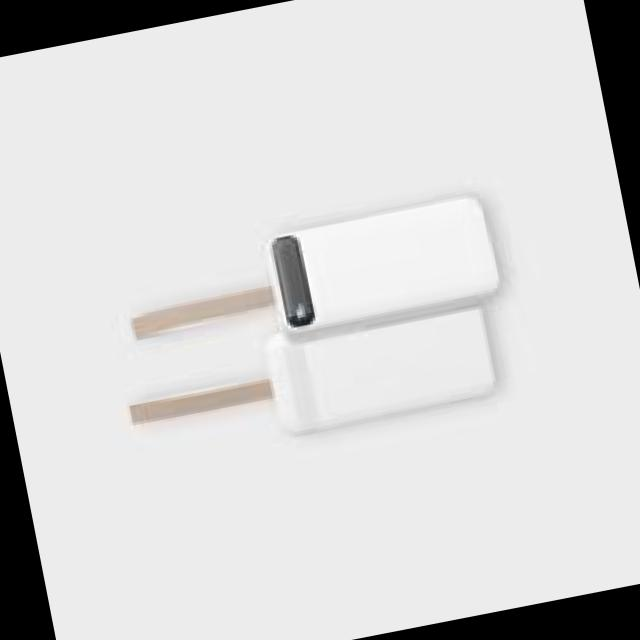portable-charger: (258, 188, 512, 350), (257, 296, 507, 442)
